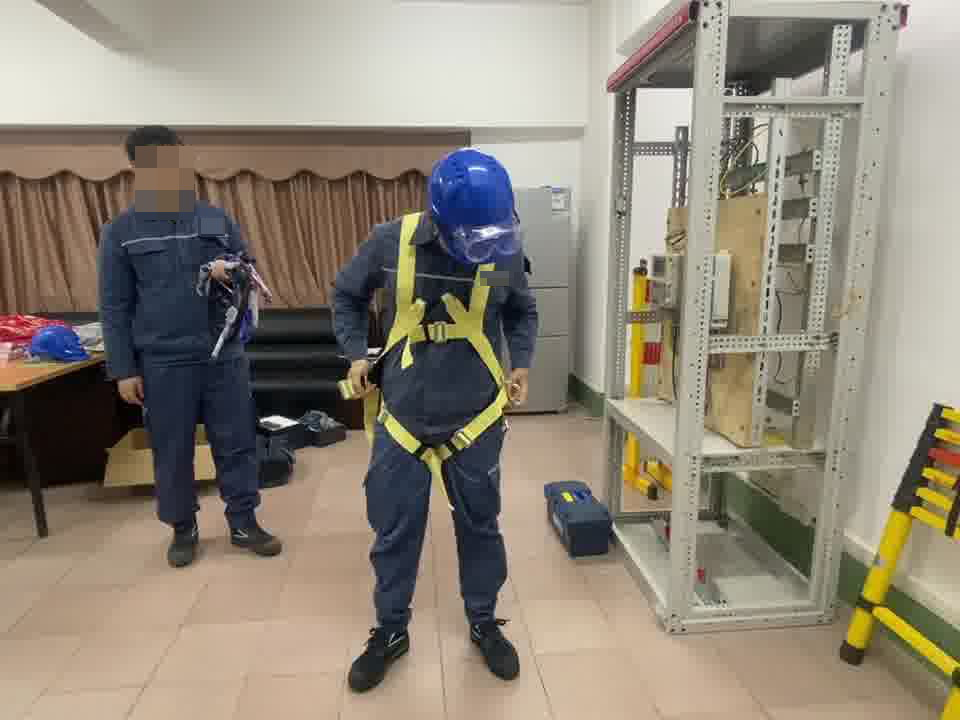downsuit: (362, 396, 515, 628), (142, 372, 265, 528)
halt: (427, 149, 522, 252)
hand: (342, 359, 378, 400), (504, 364, 530, 411), (115, 374, 143, 409)
noear: (127, 152, 158, 197)
person: (333, 145, 544, 687), (102, 124, 281, 560)
safebelt: (336, 206, 530, 514)
unhalt: (124, 126, 195, 201)
upsuit: (334, 212, 541, 404), (97, 200, 255, 368)
